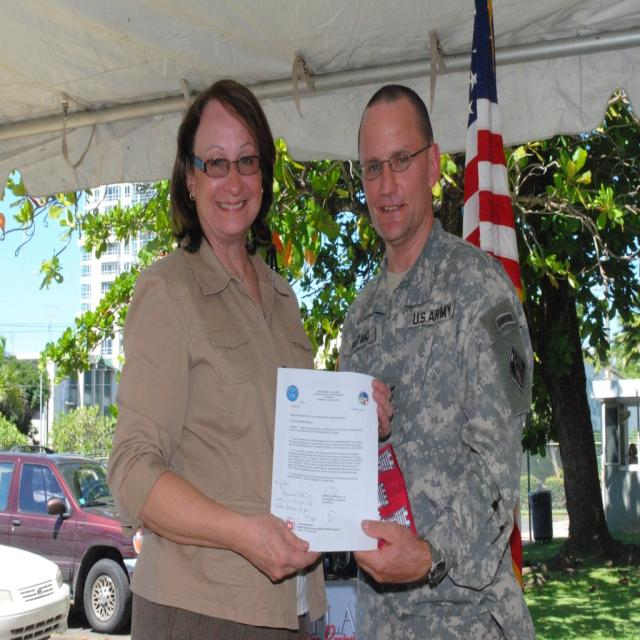car: (0, 453, 127, 627)
